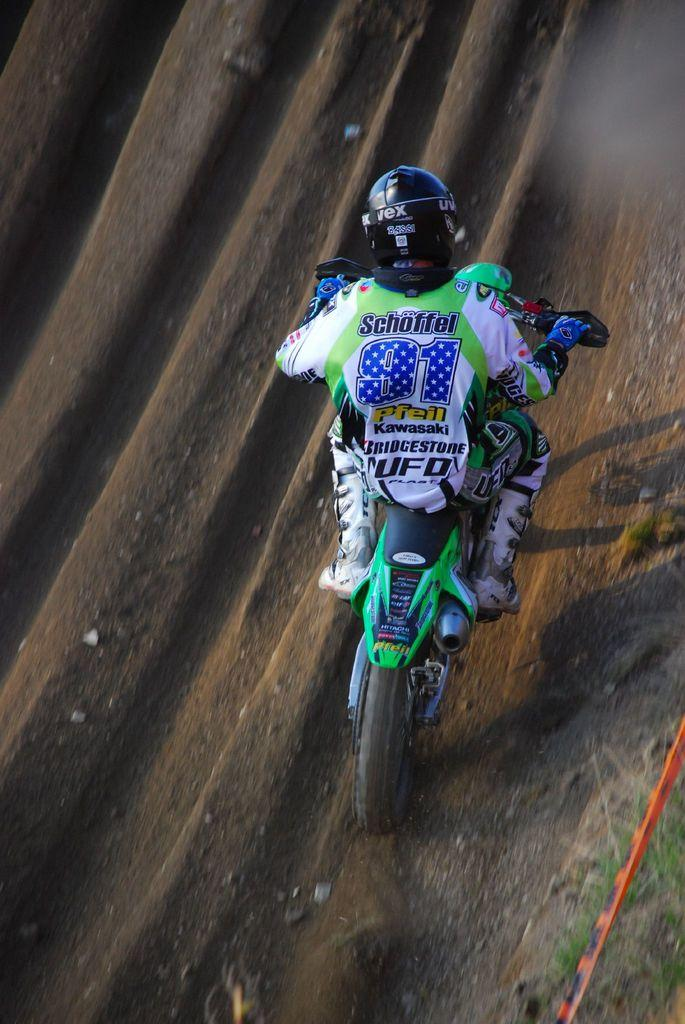helmet: (362, 165, 458, 269)
